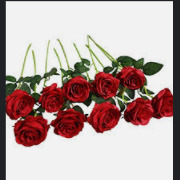RedRose: (50, 105, 86, 137), (14, 117, 49, 147), (36, 84, 70, 113), (90, 101, 121, 130), (62, 76, 96, 101), (91, 70, 123, 96), (125, 97, 154, 124), (123, 63, 149, 91), (8, 92, 37, 116), (153, 85, 173, 118)
